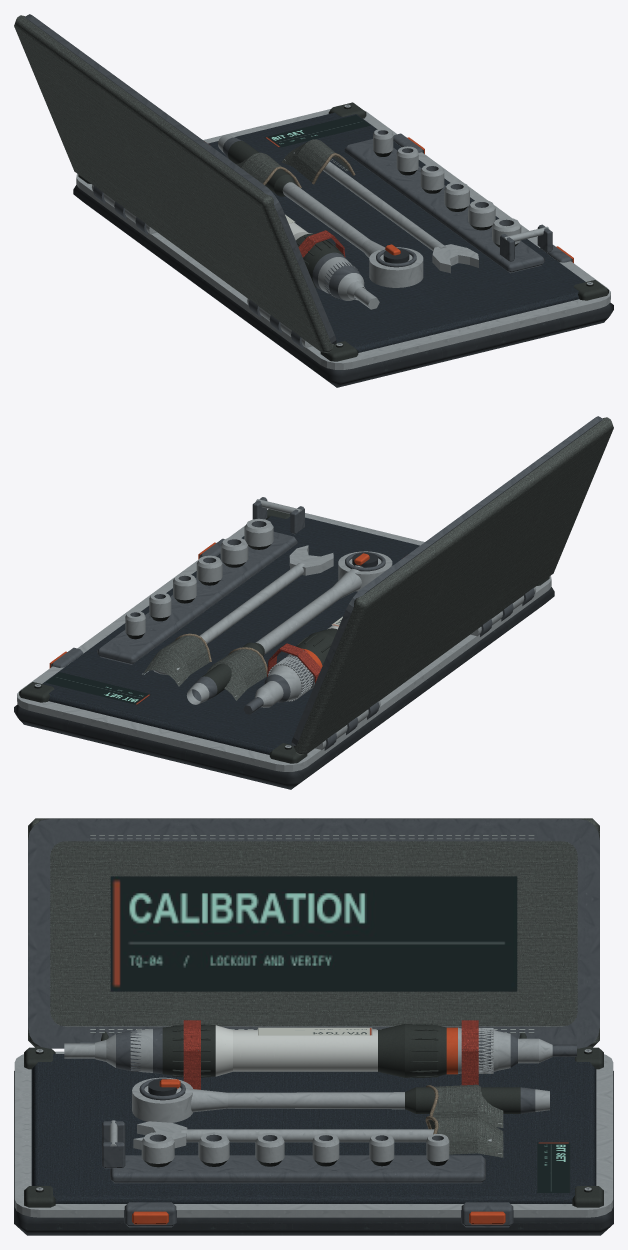
The model's file is prop_tool_roll.fbx.
The picture shows the model from 3 angles, top to bottom: view 1: azimuth 30°, elevation 25°; view 2: azimuth 150°, elevation 25°; view 3: azimuth 270°, elevation 25°; orthographic projection. The views are drawn at different scales.
Parts seen in each view (by area): view 1: SM_prop_tool_roll; view 2: SM_prop_tool_roll; view 3: SM_prop_tool_roll.
Boxes of the visible parts, x1,y1,x2,y2 form: SM_prop_tool_roll: (14,14,613,387); SM_prop_tool_roll: (14,416,613,789); SM_prop_tool_roll: (14,818,613,1235).
Bounding box in the file's own units: 0.3799 × 0.2116 × 0.488.
14 materials, 14 textured.
